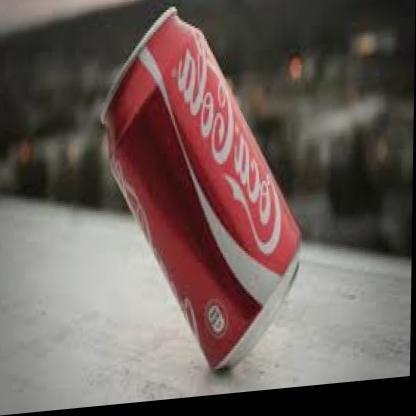trash: (103, 8, 300, 368)
